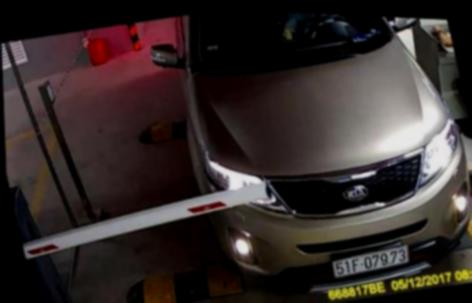License_Plate: (317, 232, 409, 280)
